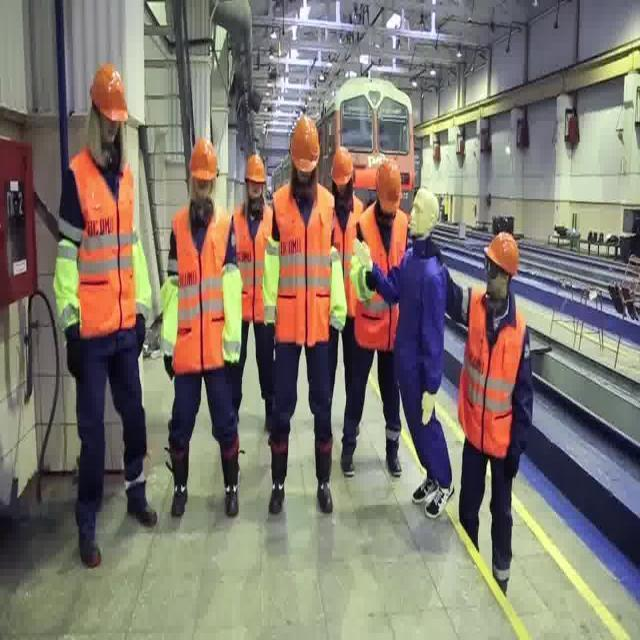boots: (72, 488, 100, 568), (269, 445, 297, 514), (308, 440, 332, 514), (340, 420, 368, 476), (127, 470, 153, 526), (220, 447, 239, 517), (171, 451, 191, 516), (424, 483, 455, 519), (383, 426, 401, 477), (412, 478, 436, 504), (493, 563, 510, 581)
gloves: (65, 324, 83, 380), (66, 340, 84, 380), (486, 273, 509, 299), (420, 390, 436, 426), (222, 340, 241, 363), (504, 451, 520, 477), (162, 354, 174, 380), (364, 270, 378, 290), (329, 316, 345, 331)
hard-hat: (90, 65, 128, 122), (289, 115, 319, 173), (485, 232, 519, 276), (374, 160, 402, 212), (189, 138, 218, 181), (244, 154, 266, 182)
mask: (485, 274, 510, 301)
person: (51, 65, 157, 567), (260, 113, 347, 515), (360, 186, 456, 518), (161, 137, 242, 518), (453, 230, 534, 593), (340, 159, 410, 477), (213, 150, 290, 434)
ppe-suit: (391, 247, 456, 481)
vest: (52, 136, 147, 336), (260, 180, 344, 347), (258, 178, 338, 350), (163, 214, 233, 376), (457, 294, 527, 453), (356, 215, 411, 341), (234, 193, 278, 326)
